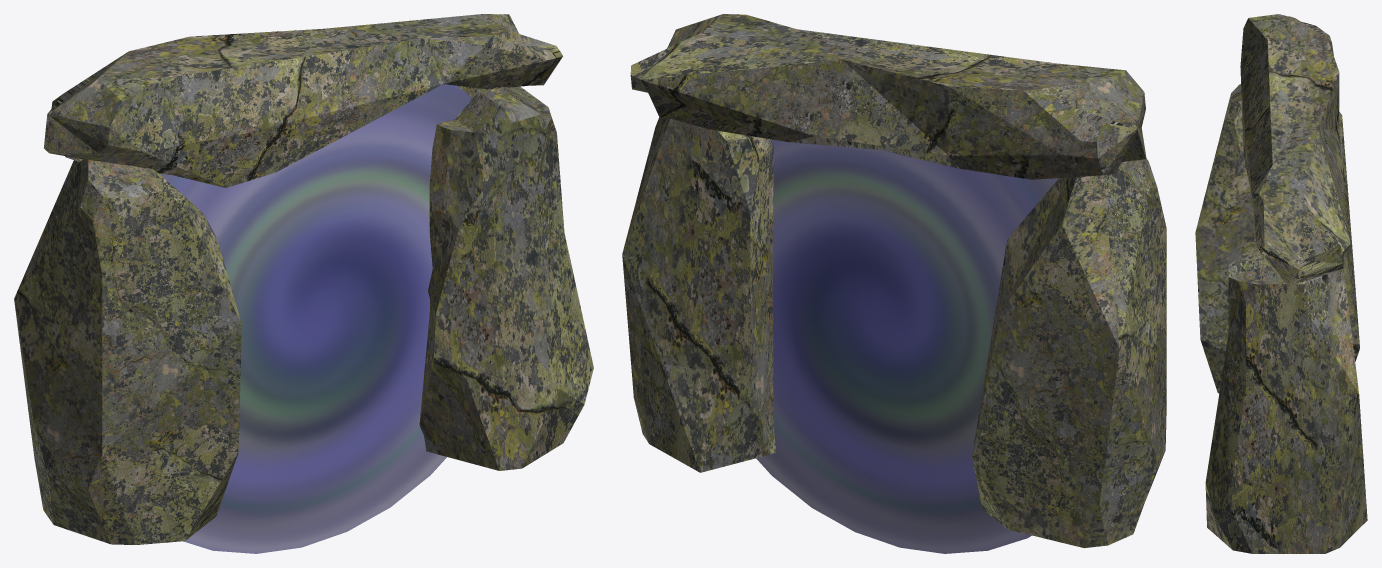
Rendered from dolmenPortal.fbx.
The picture shows the model from 3 angles, left to right: view 1: azimuth 30°, elevation 25°; view 2: azimuth 150°, elevation 25°; view 3: azimuth 270°, elevation 25°; orthographic projection. The views are drawn at different scales.
Parts seen in each view (by area): view 1: Circle, dolmen, dolmen.001, dolmen.002; view 2: Circle, dolmen, dolmen.002, dolmen.001; view 3: dolmen.001, dolmen.002, dolmen.
Part boxes in pixels (x1=…): Circle: x1=159, y1=84, x2=471, y2=553; dolmen: x1=14, y1=159, x2=241, y2=544; dolmen.001: x1=419, y1=85, x2=593, y2=470; dolmen.002: x1=44, y1=14, x2=562, y2=187; Circle: x1=756, y1=139, x2=1058, y2=553; dolmen: x1=972, y1=158, x2=1166, y2=548; dolmen.002: x1=630, y1=14, x2=1146, y2=179; dolmen.001: x1=622, y1=116, x2=775, y2=472; dolmen.001: x1=1205, y1=242, x2=1367, y2=553; dolmen.002: x1=1240, y1=14, x2=1350, y2=286; dolmen: x1=1195, y1=84, x2=1359, y2=393.
Bounding box in the file's own units: 254 × 241 × 89.99.
2 materials, 2 textured.
